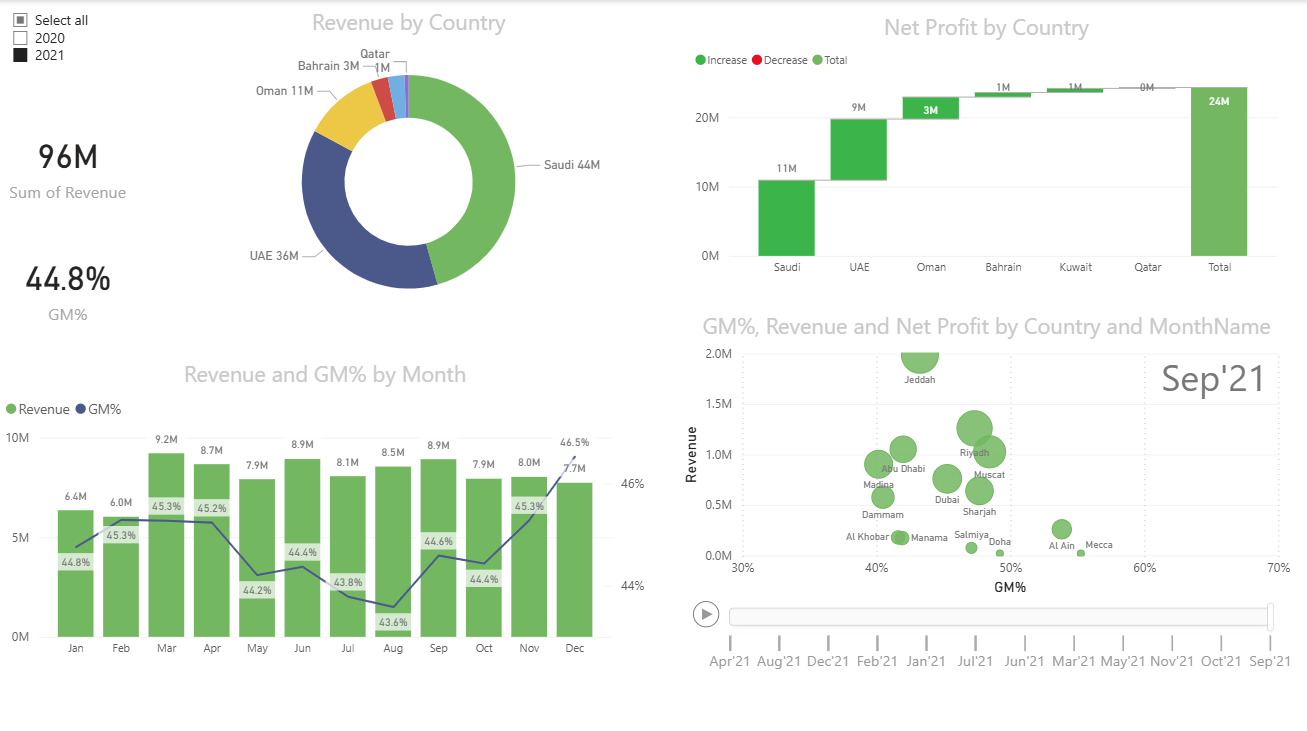

Layout of this report page (visuals, bound fields, positions):
{"tool":"powerbi","page":{"name":"P&L","canvas":[1280,720],"ordinal":3},"visuals":[{"type":"slicer","fields":{"Values":["Dates.Year"]},"box":[0,6,114,90],"z":0},{"type":"card","fields":{"Values":["Sum(PnL.Revenue)"]},"box":[0,118,133,88],"z":1000},{"type":"card","fields":{"Values":["PnL.GM%"]},"box":[0,237,133.3,87],"z":2000},{"type":"donutChart","title":"Revenue by Country","fields":{"Category":["Geography.Country"],"Y":["Sum(PnL.Revenue)"]},"box":[162,6.1,477,315],"z":3000},{"type":"waterfallChart","title":"Net Profit by Country","fields":{"Category":["Geography.Country","Geography.City"],"Y":["Sum(PnL.Net Profit)"]},"box":[675,11,580,267],"z":4000},{"type":"lineClusteredColumnComboChart","title":"Revenue and GM% by Month","fields":{"Category":["Dates.Month"],"Y":["Sum(PnL.Revenue)"],"Y2":["PnL.GM%"]},"box":[0,351,636,300],"z":5000},{"type":"scatterChart","title":"GM%, Revenue and Net Profit by Country and MonthName","fields":{"Category":["Geography.Country","Geography.City"],"X":["PnL.GM%"],"Y":["Sum(PnL.Revenue)"],"Size":["Sum(PnL.Net Profit)"],"Play":["Dates.MonthName"]},"box":[663,303,605,364],"z":6000}]}

Visuals, with their boxes in screenshot pixels (x1, y1, x2, y2), scaled from the page's 1280x720 canvas onto the 1307x731 screenshot:
slicer - Dates.Year: rect(0, 6, 116, 97)
card - Sum(PnL.Revenue): rect(0, 120, 136, 209)
card - PnL.GM%: rect(0, 241, 136, 329)
"Revenue by Country" donutChart: rect(165, 6, 652, 326)
"Net Profit by Country" waterfallChart: rect(689, 11, 1281, 282)
"Revenue and GM% by Month" lineClusteredColumnComboChart: rect(0, 356, 649, 661)
"GM%, Revenue and Net Profit by Country and MonthName" scatterChart: rect(677, 308, 1295, 677)
